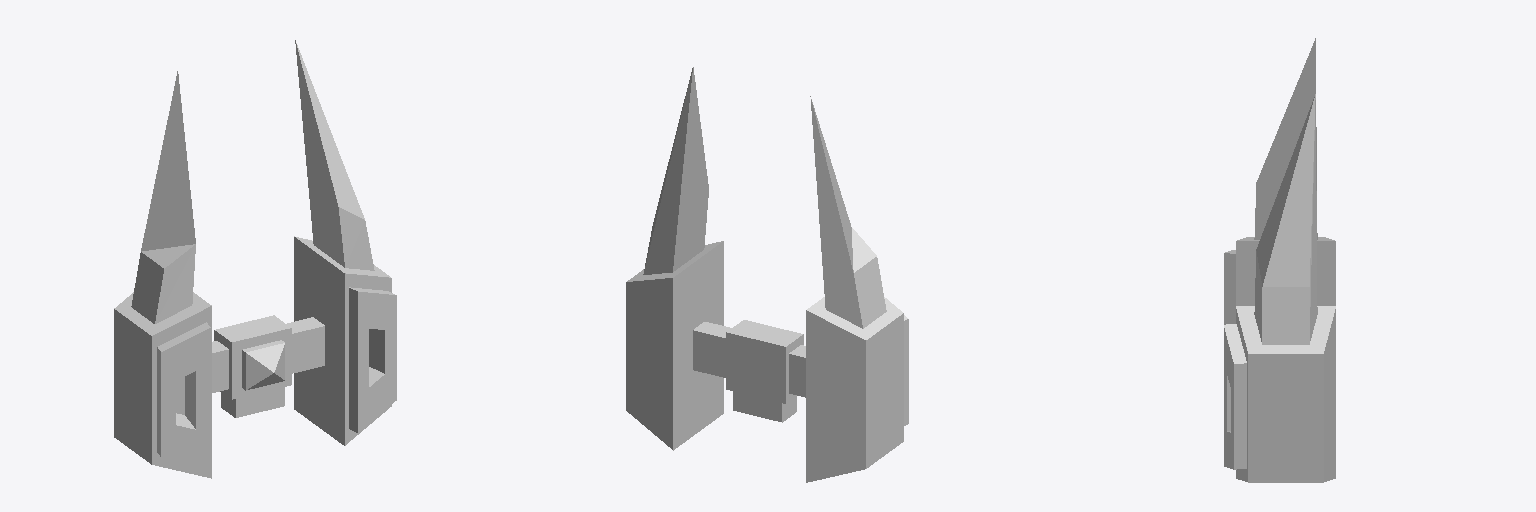
The model's file is demon.obj.
The picture shows the model from 3 angles: view 1: azimuth 30°, elevation 25°; view 2: azimuth 150°, elevation 25°; view 3: azimuth 270°, elevation 25°; orthographic projection.
Parts seen in each view (by area): view 1: mesh01; view 2: mesh01; view 3: mesh01.
Boxes of the visible parts, x1,y1,x2,y2 form: mesh01: [114, 40, 396, 478]; mesh01: [626, 67, 908, 482]; mesh01: [1224, 38, 1335, 482].
Size of the model in its own units: 21.24 by 32.17 by 8.66.